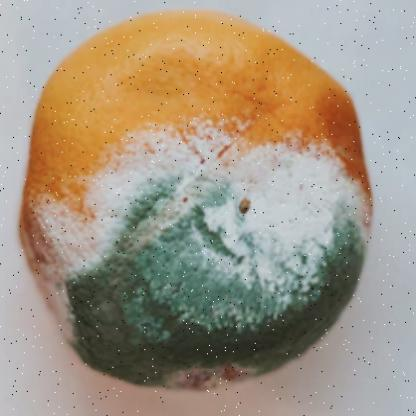rotten: (20, 13, 376, 390)
